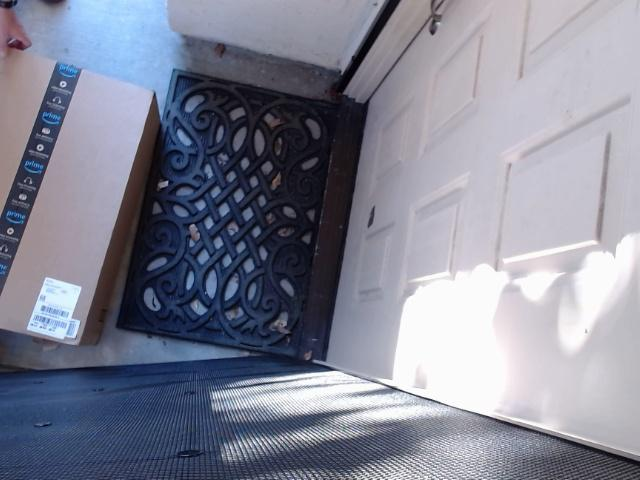box: (0, 57, 151, 344)
